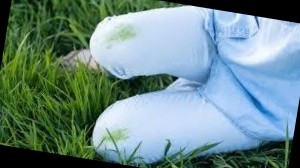earth: (108, 26, 138, 43), (105, 127, 127, 144)
